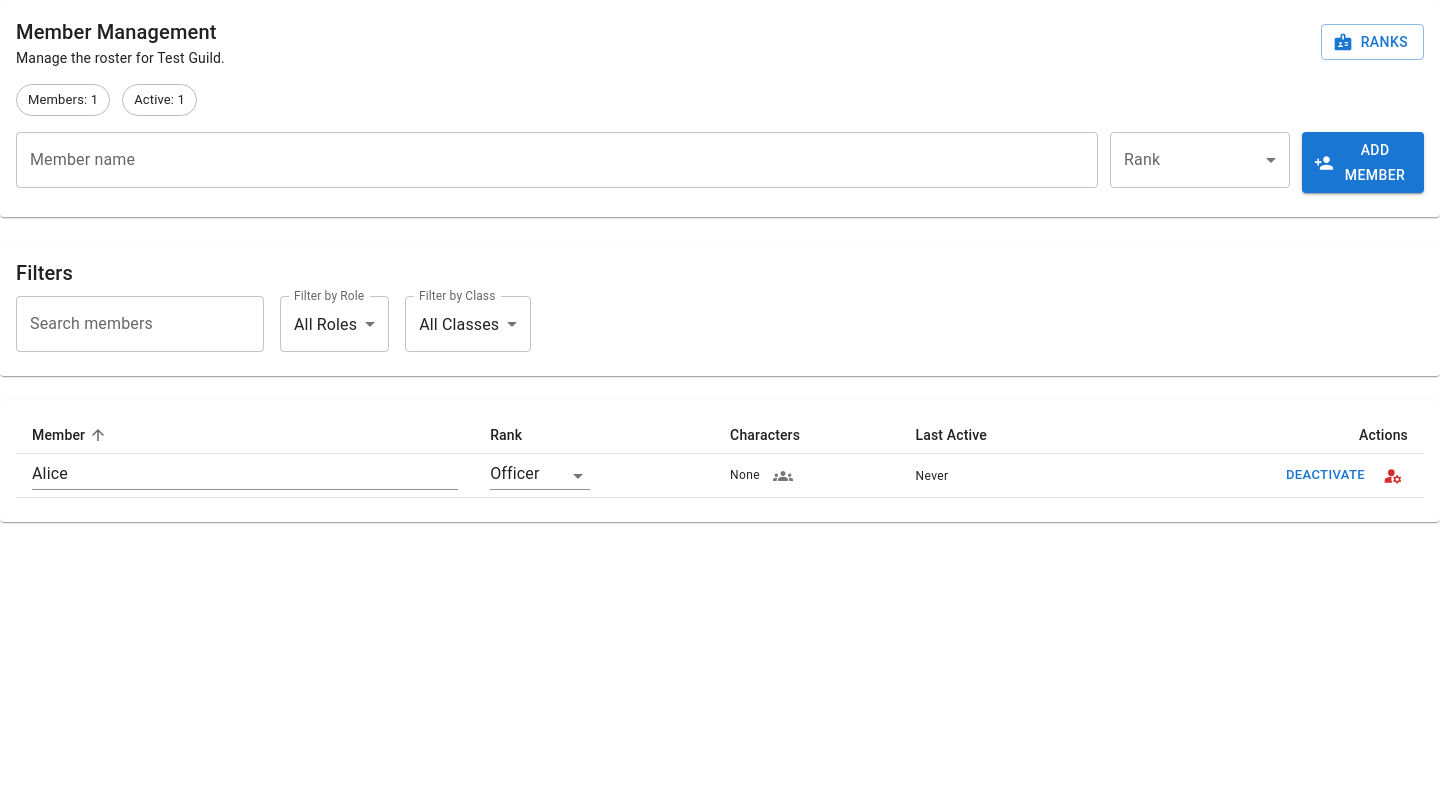
Test: MemberManagementPage › renders ranks in the rank selection dropdowns
Note: Check rank for new member draft
Click the dropdown named "Rank".
click(1200, 160)  # box [1110, 132, 1290, 188]
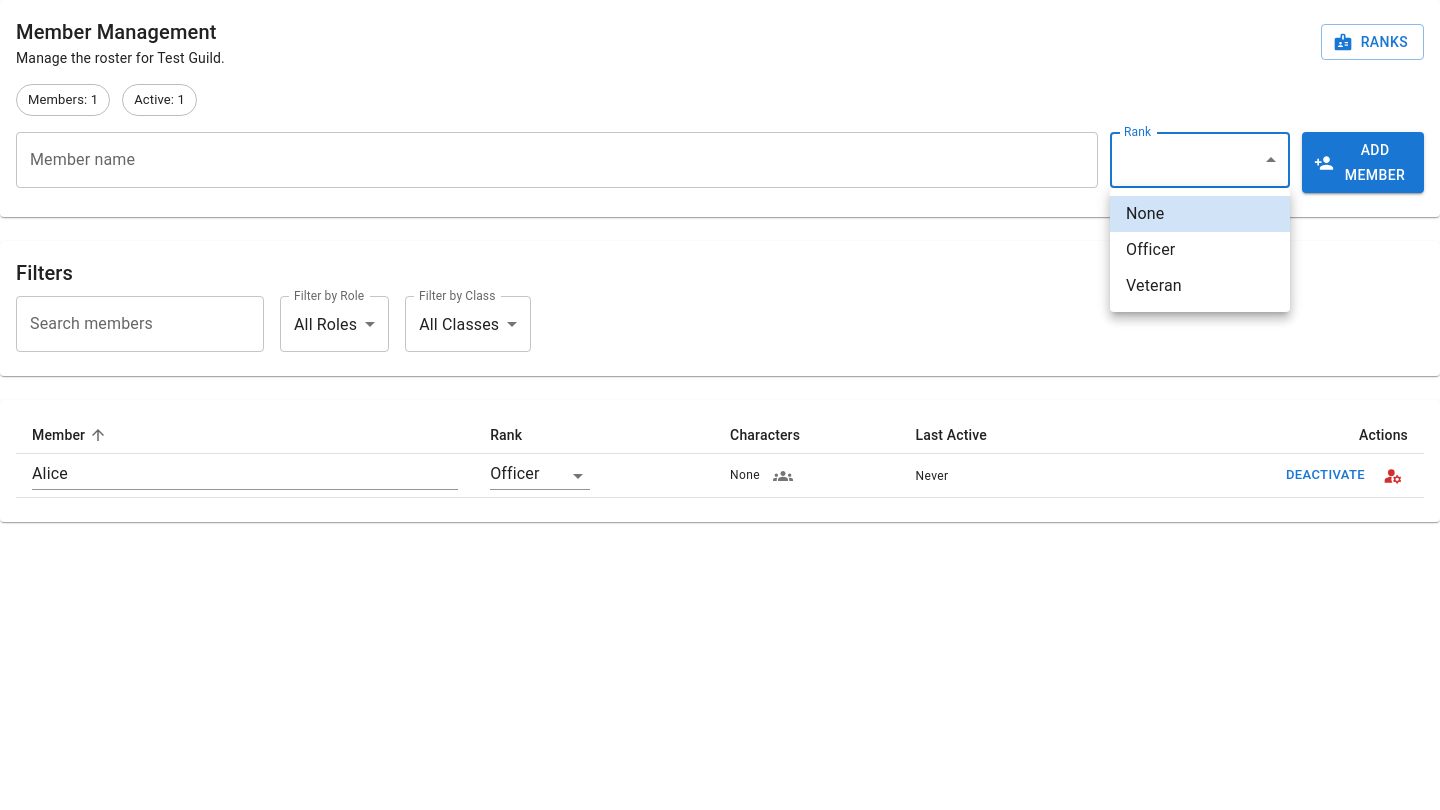
Expected: the option "Officer" is shown, [1126, 240, 1175, 259]
Expected: the option "Veteran" is shown, [1126, 276, 1182, 295]
Note: Close the select menu to avoid interference with the next check
Press Escape
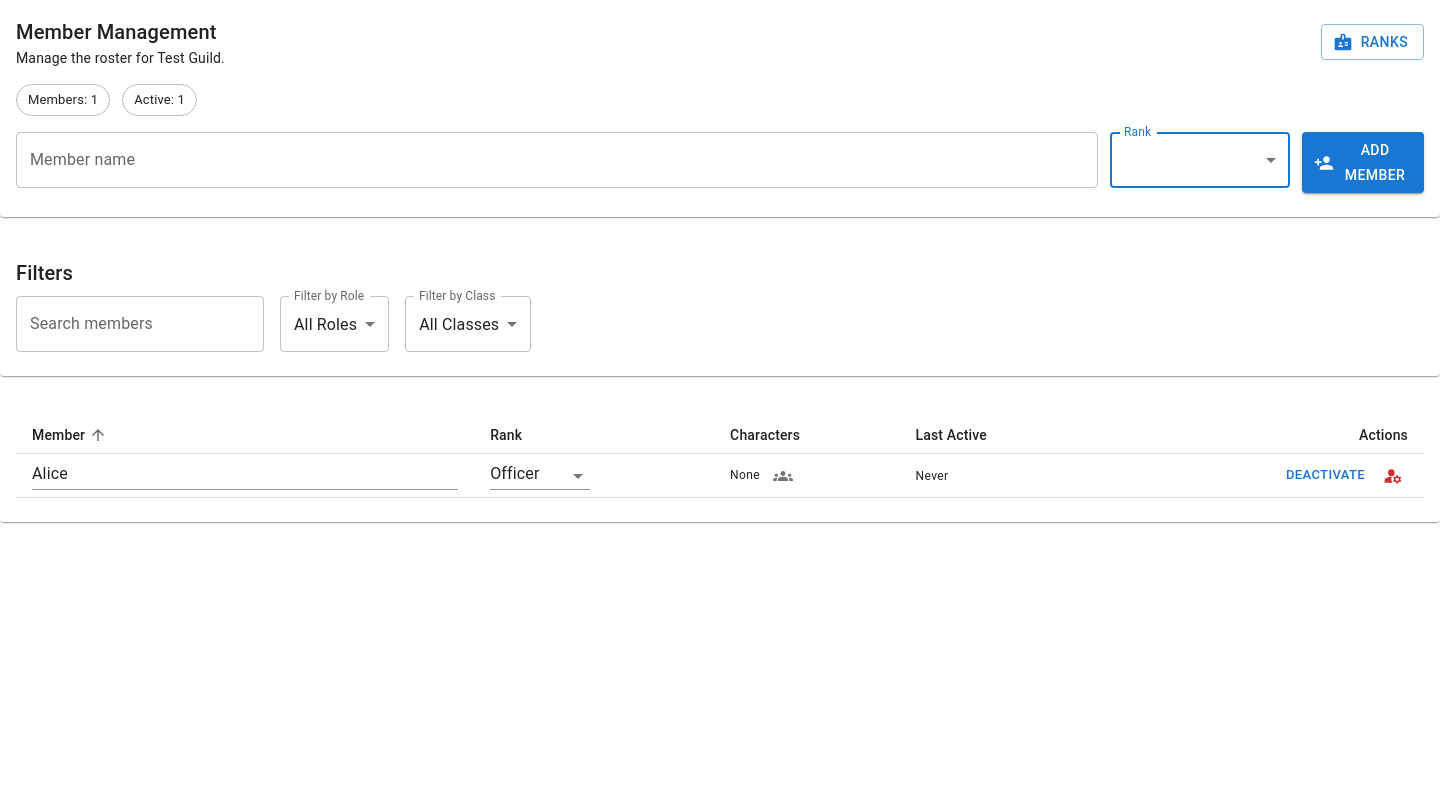
Click the dropdown labelled "Officer".
click(515, 474)  # box [490, 464, 540, 483]
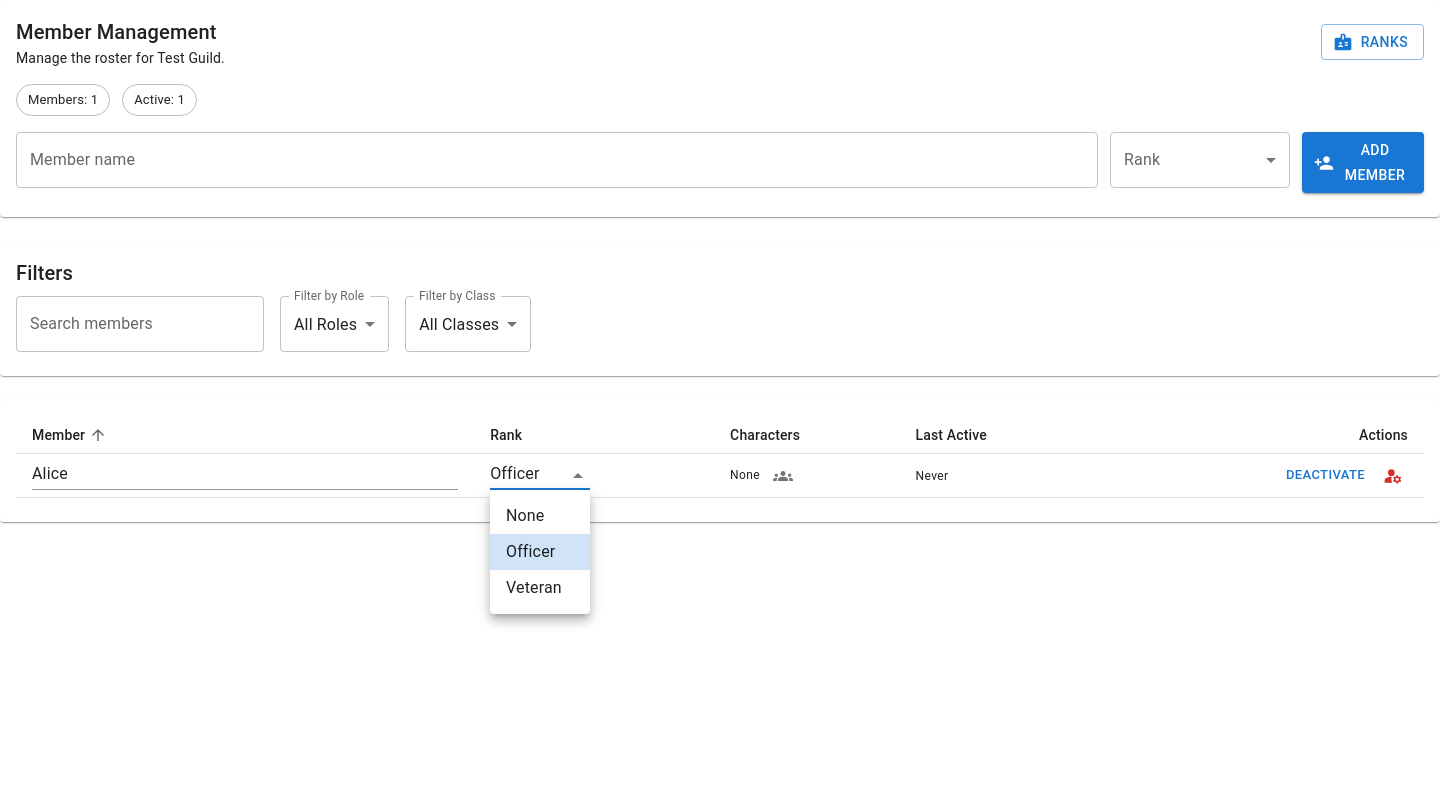
Expected: the option "Officer" is shown, [490, 534, 590, 570]
Expected: the option "Veteran" is shown, [506, 578, 562, 597]
